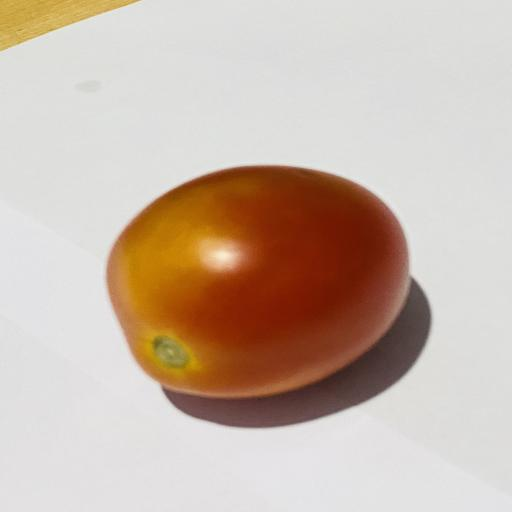ripe: (107, 166, 410, 398)
